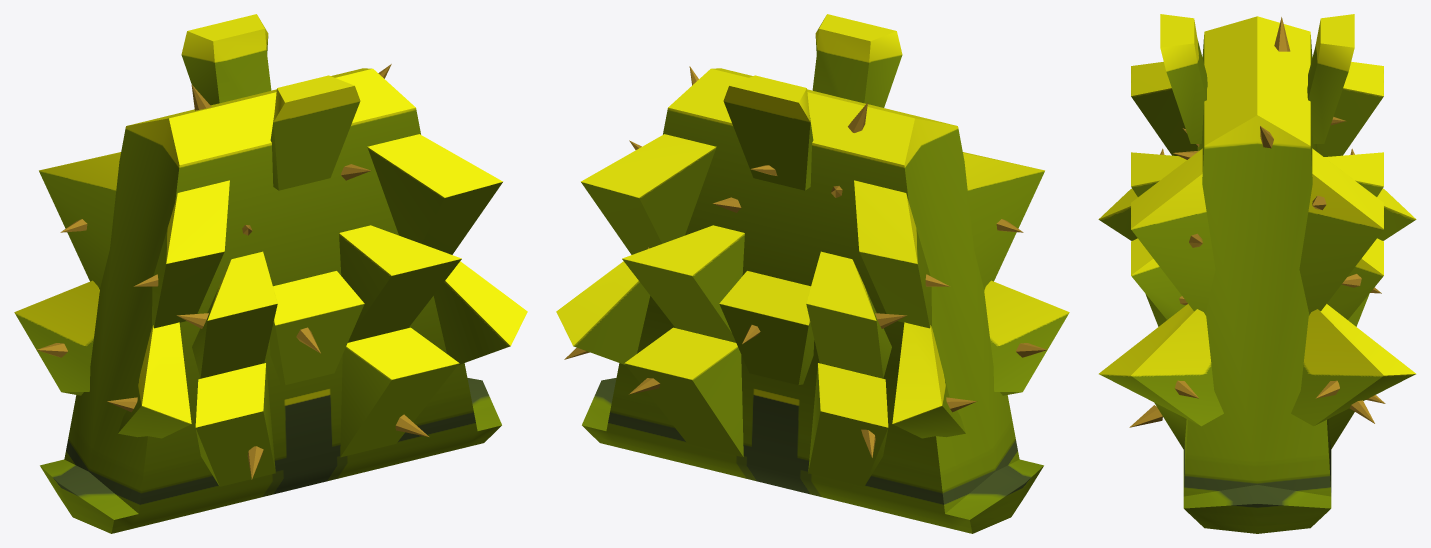
File: CactusBunker.FBX
3 renders of one model, left to right at view 1: azimuth 30°, elevation 25°; view 2: azimuth 150°, elevation 25°; view 3: azimuth 270°, elevation 25°, orthographic.
Parts seen in each view (by area): view 1: Object001; view 2: Object001; view 3: Object001.
Part boxes in pixels (x1,y1,x2,y2): Object001: [14, 14, 527, 533]; Object001: [556, 14, 1069, 533]; Object001: [1098, 14, 1416, 533].
Bounding box in the file's own units: 3.43 × 2.25 × 3.18.
